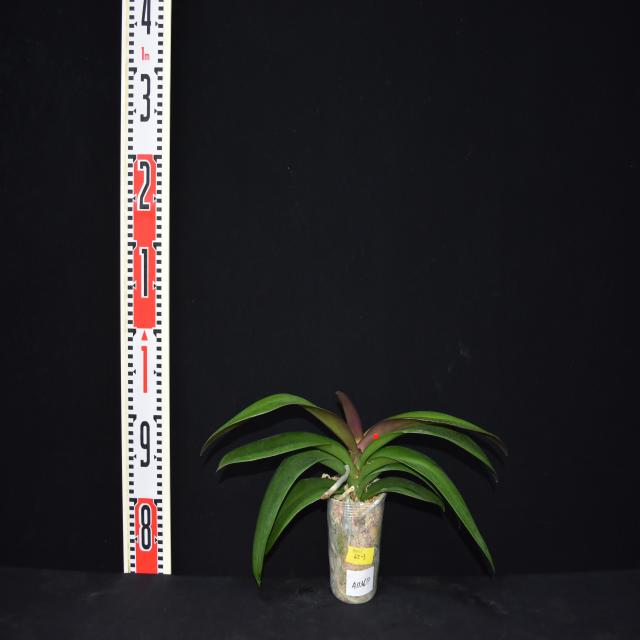leaf: (359, 446, 494, 569), (252, 449, 357, 589), (200, 393, 359, 459), (356, 425, 498, 480), (358, 411, 508, 454), (218, 433, 358, 478), (266, 478, 346, 554), (360, 476, 444, 512), (358, 464, 443, 499), (336, 392, 363, 444)
